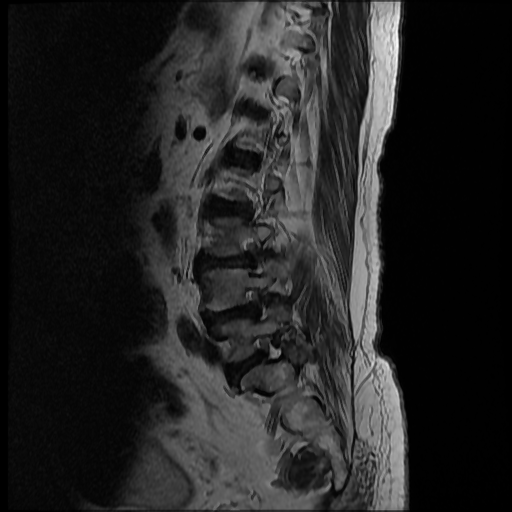LFS0: (247, 326, 291, 374)
